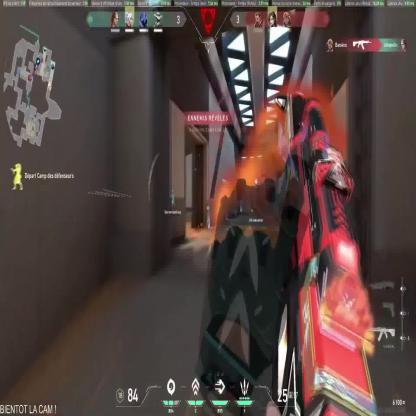enemy: (11, 162, 23, 190)
enemy_head: (14, 162, 22, 167)
